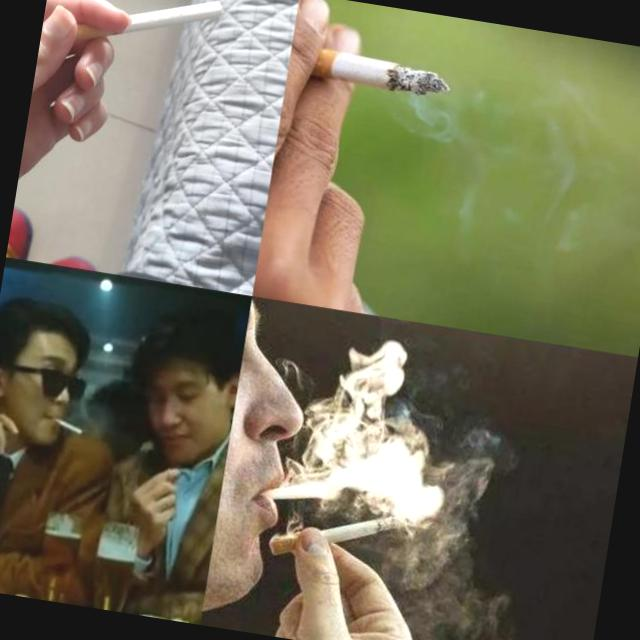cigarette: (64, 0, 225, 64), (287, 40, 454, 100), (270, 502, 390, 572), (46, 408, 86, 438)
